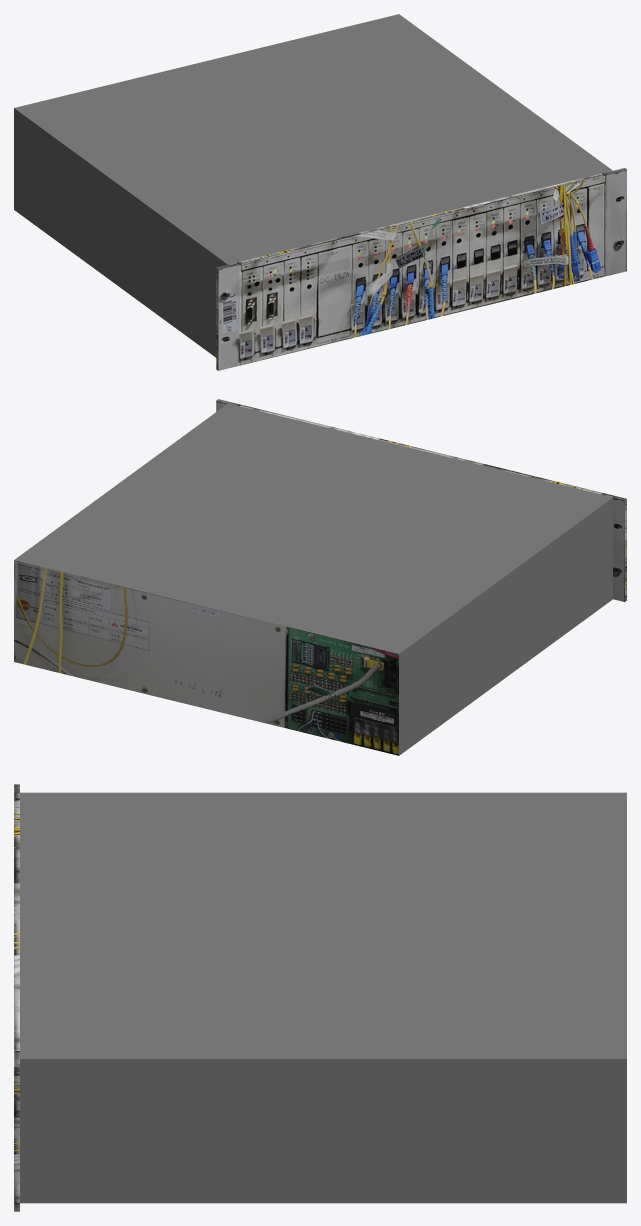
File: SC-MUX.fbx
3 renders of one model, top to bottom at view 1: azimuth 30°, elevation 25°; view 2: azimuth 150°, elevation 25°; view 3: azimuth 270°, elevation 25°, orthographic. The views are drawn at different scales.
Visible parts, largest first — view 1: SC-MUX; view 2: SC-MUX; view 3: SC-MUX.
Boxes of the visible parts, x1,y1,x2,y2 form: SC-MUX: [14, 14, 626, 370]; SC-MUX: [14, 399, 626, 755]; SC-MUX: [14, 784, 626, 1211].
Bounding box in the file's own units: 560 × 133 × 513.
3 materials, 2 textured.
